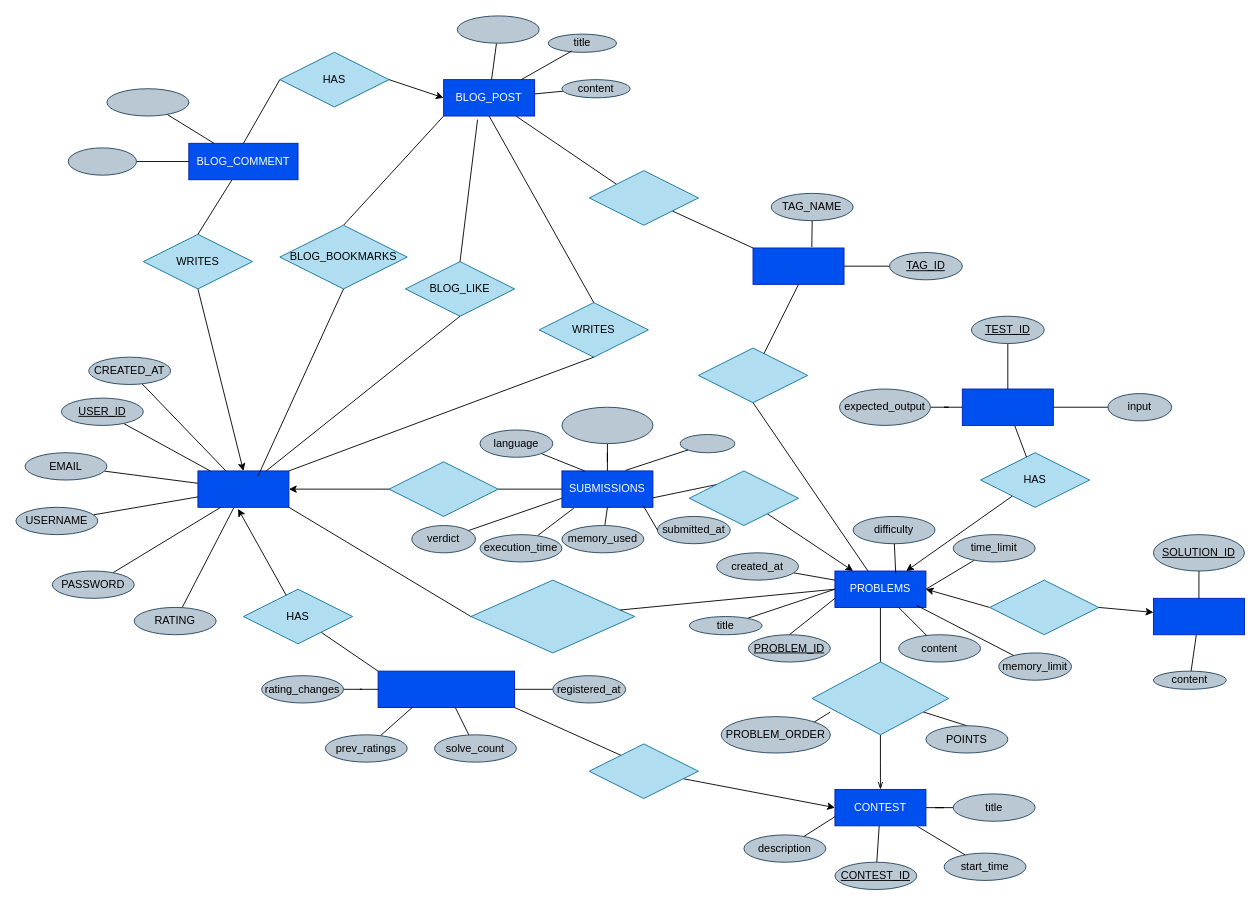
This 1260x905 diagram has some shape labels left out. The centre of each missing label's shape, as x and y in pixels:
BELONGS_TO: (643,771)
BLOG_TAG: (643,197)
code: (707,443)
comment_id: (147,102)
CONTEST_PARTICIPATION: (446,689)
CONTEST_PROBLEM: (880,698)
FOR: (743,498)
HAV: (1044,607)
post_id: (497,29)
PROBLEM_BOOKMARKS: (552,616)
PROBLEM_TAG: (753,375)
SOLUTION: (1198,616)
SUBMISSION_ID: (607,425)
SUBMITS: (443,488)
TAGS: (798,265)
TESTCASE: (1007,406)
text: (101,161)
USERS: (243,488)
